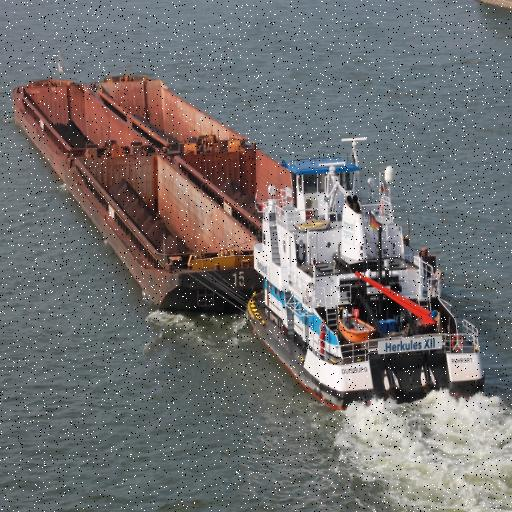tugboat: (245, 135, 489, 423)
